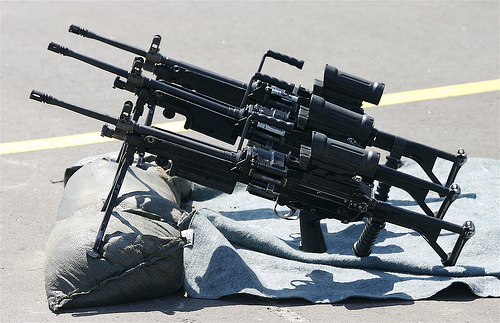rifle: (20, 111, 476, 254)
